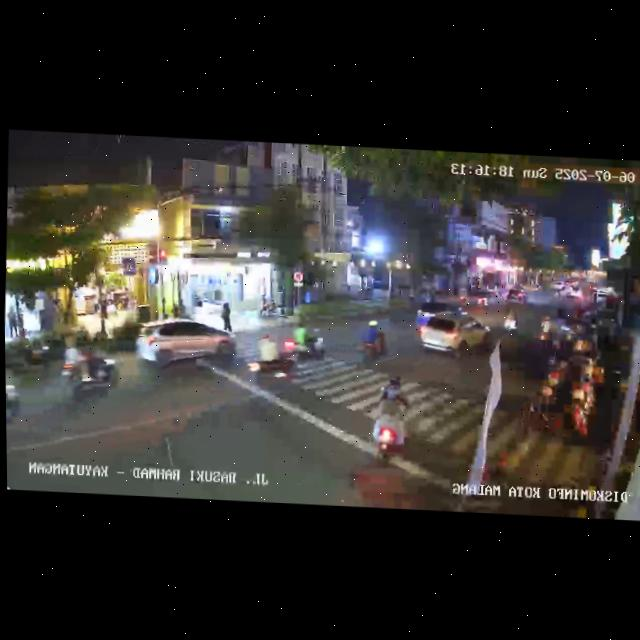car: (133, 314, 235, 375), (415, 308, 493, 360), (5, 360, 20, 430), (506, 285, 528, 303)
motorcycle: (370, 374, 412, 464), (60, 342, 121, 403), (247, 329, 300, 387), (355, 317, 390, 369), (284, 321, 327, 363), (533, 314, 553, 347), (501, 306, 519, 334)
person: (220, 299, 233, 330), (5, 307, 16, 337), (99, 296, 111, 322)
